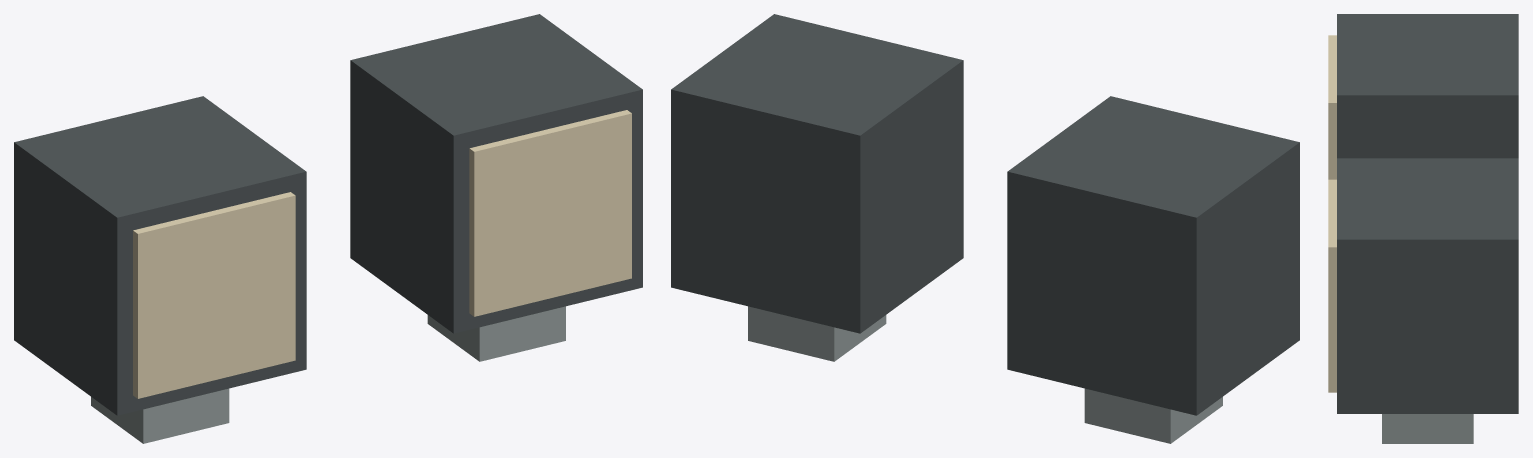
The model's file is KIT_LIGHT_CubePods.glb.
3 renders of one model, left to right at view 1: azimuth 30°, elevation 25°; view 2: azimuth 150°, elevation 25°; view 3: azimuth 270°, elevation 25°, orthographic. The views are drawn at different scales.
Visible parts, largest first — view 1: Housings, Lenses, Mounts; view 2: Housings, Mounts; view 3: Housings, Lenses, Mounts.
Boxes of the visible parts, x1,y1,x2,y2 form: Housings: (14,14,642,415); Lenses: (133,110,631,398); Mounts: (91,306,565,443); Housings: (671,14,1299,415); Mounts: (748,306,1222,443); Housings: (1337,14,1518,413); Lenses: (1328,35,1336,392); Mounts: (1382,414,1473,443).
Size of the model in its own units: 0.25 by 0.117 by 0.089.
